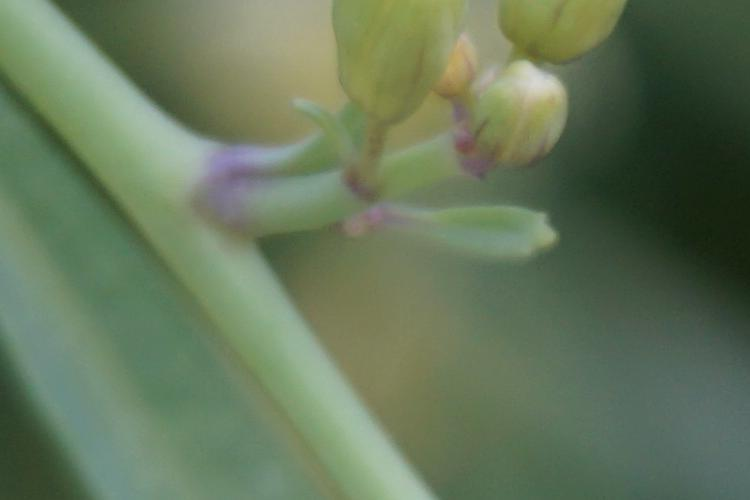bud: (330, 5, 457, 124), (466, 69, 587, 184), (498, 3, 635, 61)
